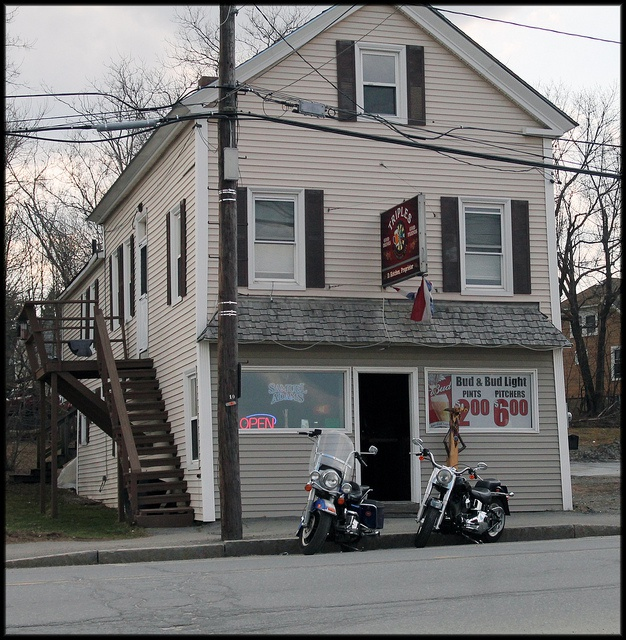non-vehicle: (294, 426, 386, 555), (410, 436, 513, 549)
